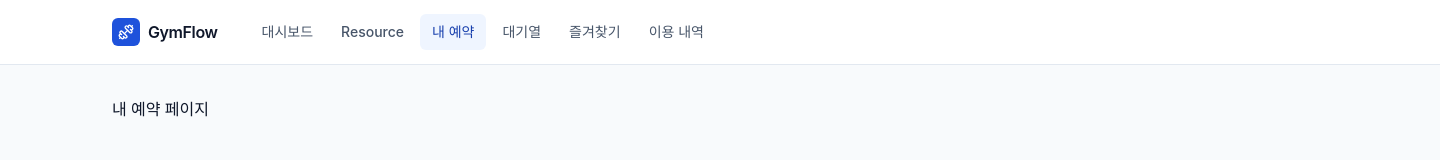
Test: AppLayout — logo home navigation › navigates to the dashboard home via SPA routing when the logo is clicked
The image size is (1440, 160).
expect the text "내 예약 페이지" is shown: met, box [112,99,209,119]
Click the link with aria-label "GymFlow 홈으로 이동": (165, 32) [112,18,218,46]
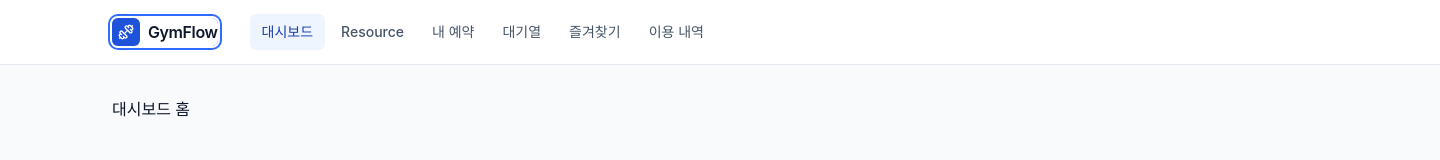
expect the text "대시보드 홈" is shown: met, box [112,99,190,119]
expect the text "내 예약 페이지" is gone: met
